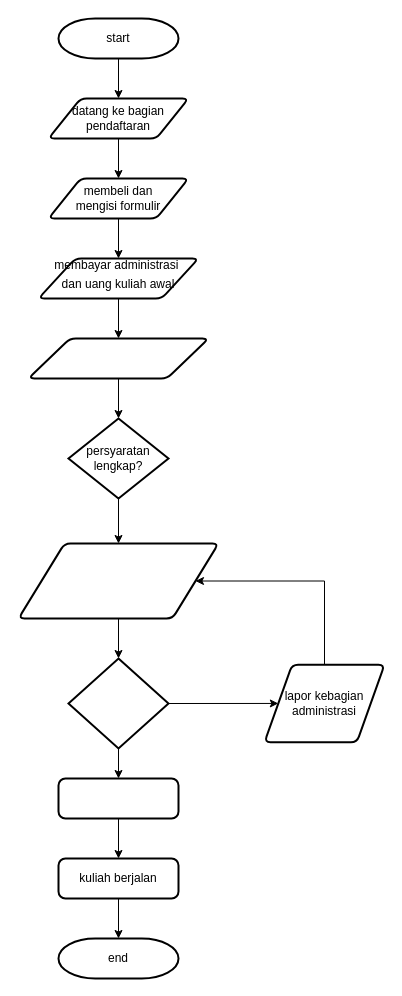
Image size: 402x996. Some labels were removed from this diagram. The shapes that lost their labels are listed below. From the top down, each one's box as (x1, y1, x2, y2) in pixels, then its label:
(27, 337, 209, 379): mengumpulkan dan menyerahkan persyaratan
(17, 542, 219, 619): meneriima kartu mahasiswa , jas universitas, jadwal orientasi, dan jadwal kuliah
(67, 657, 169, 749): perlengkapan kuliah sudah lengkap?
(57, 777, 179, 819): mengikuti orientasi
